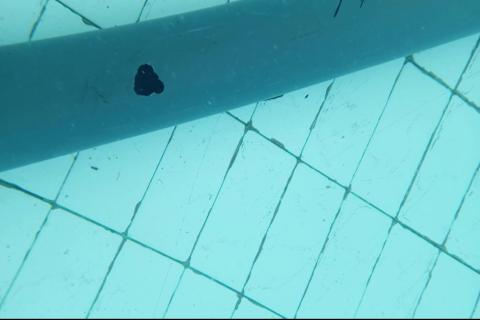kebocoran: (131, 62, 165, 98)
keretakan: (333, 0, 343, 19)
